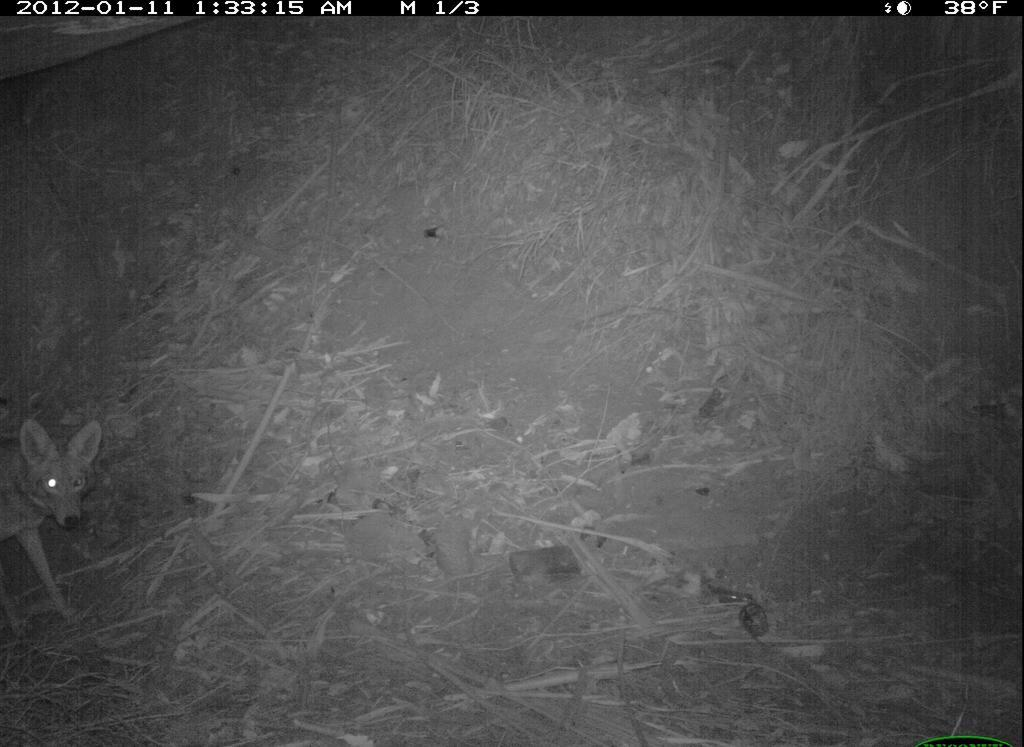coyote: (3, 408, 130, 634)
